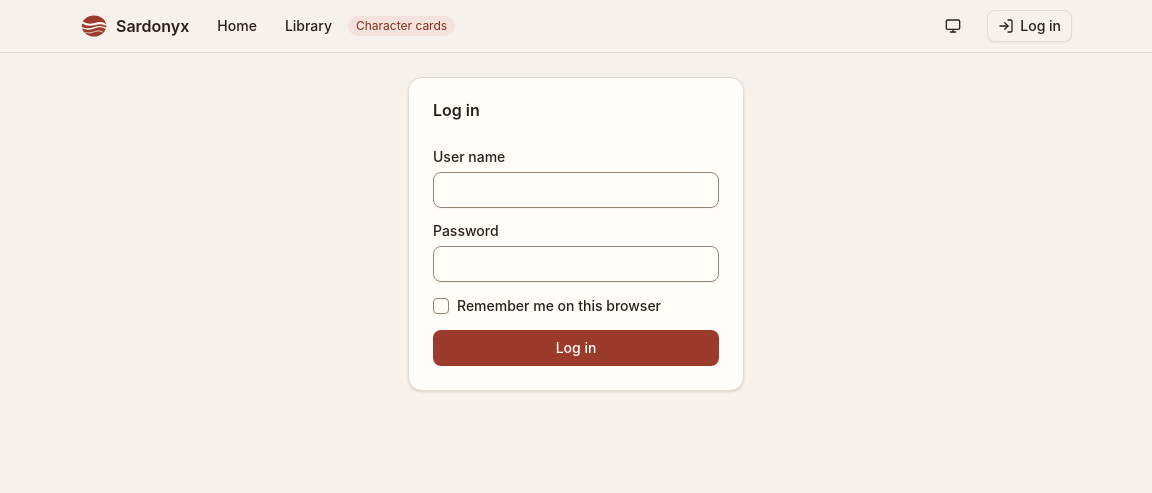
Scenario: logging in › shows the site's refusal readably and keeps nobody logged in
Type "ada" into the field labelled "User name".
click(576, 190); type("ada")  # box [433,172,719,208]
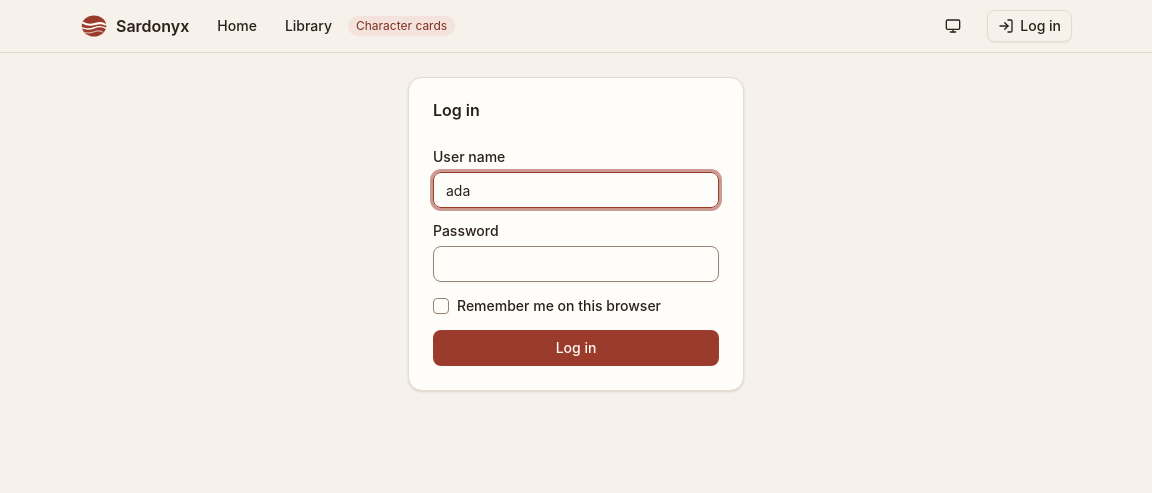
Type "wrong" into the password field labelled "Password".
click(576, 264); type("wrong")  # box [433,246,719,282]
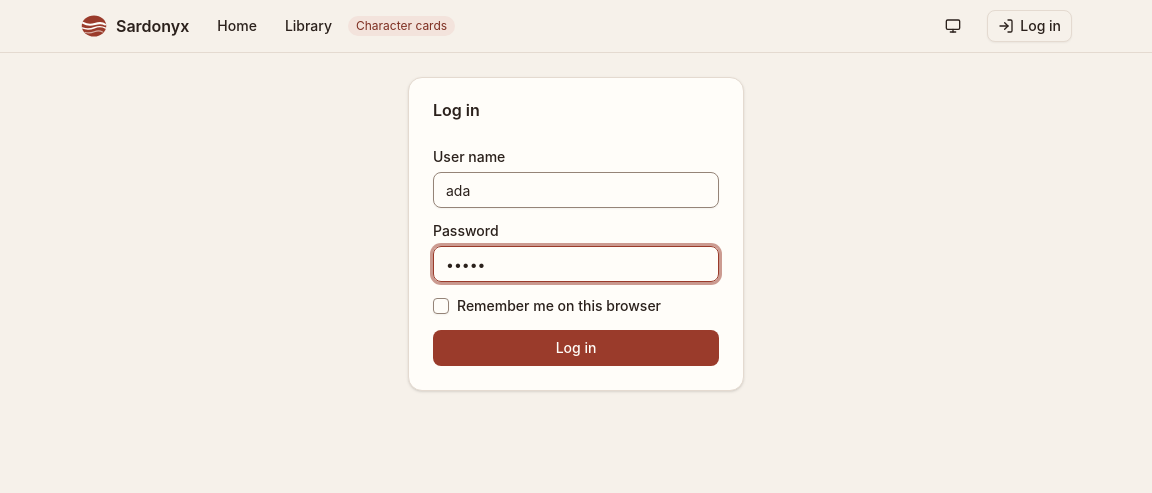
Click the button "Log in".
click(576, 348)  # box [433,330,719,366]
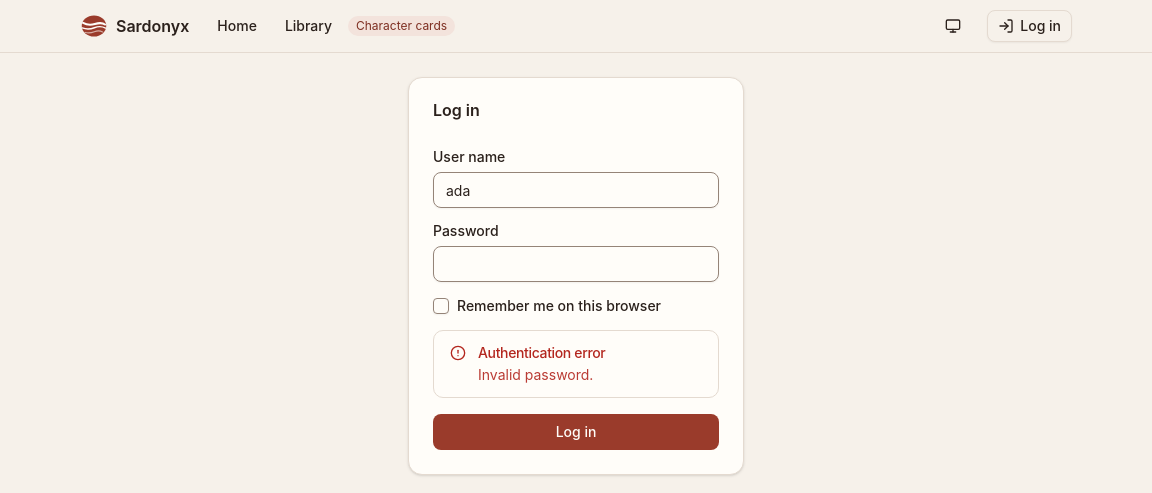
Result: the message shows "Authentication error" at [478,344,605,361]
Result: the message shows "Invalid password." at [478,366,593,383]
Result: the password field labelled "Password" is empty at [433,246,719,282]
